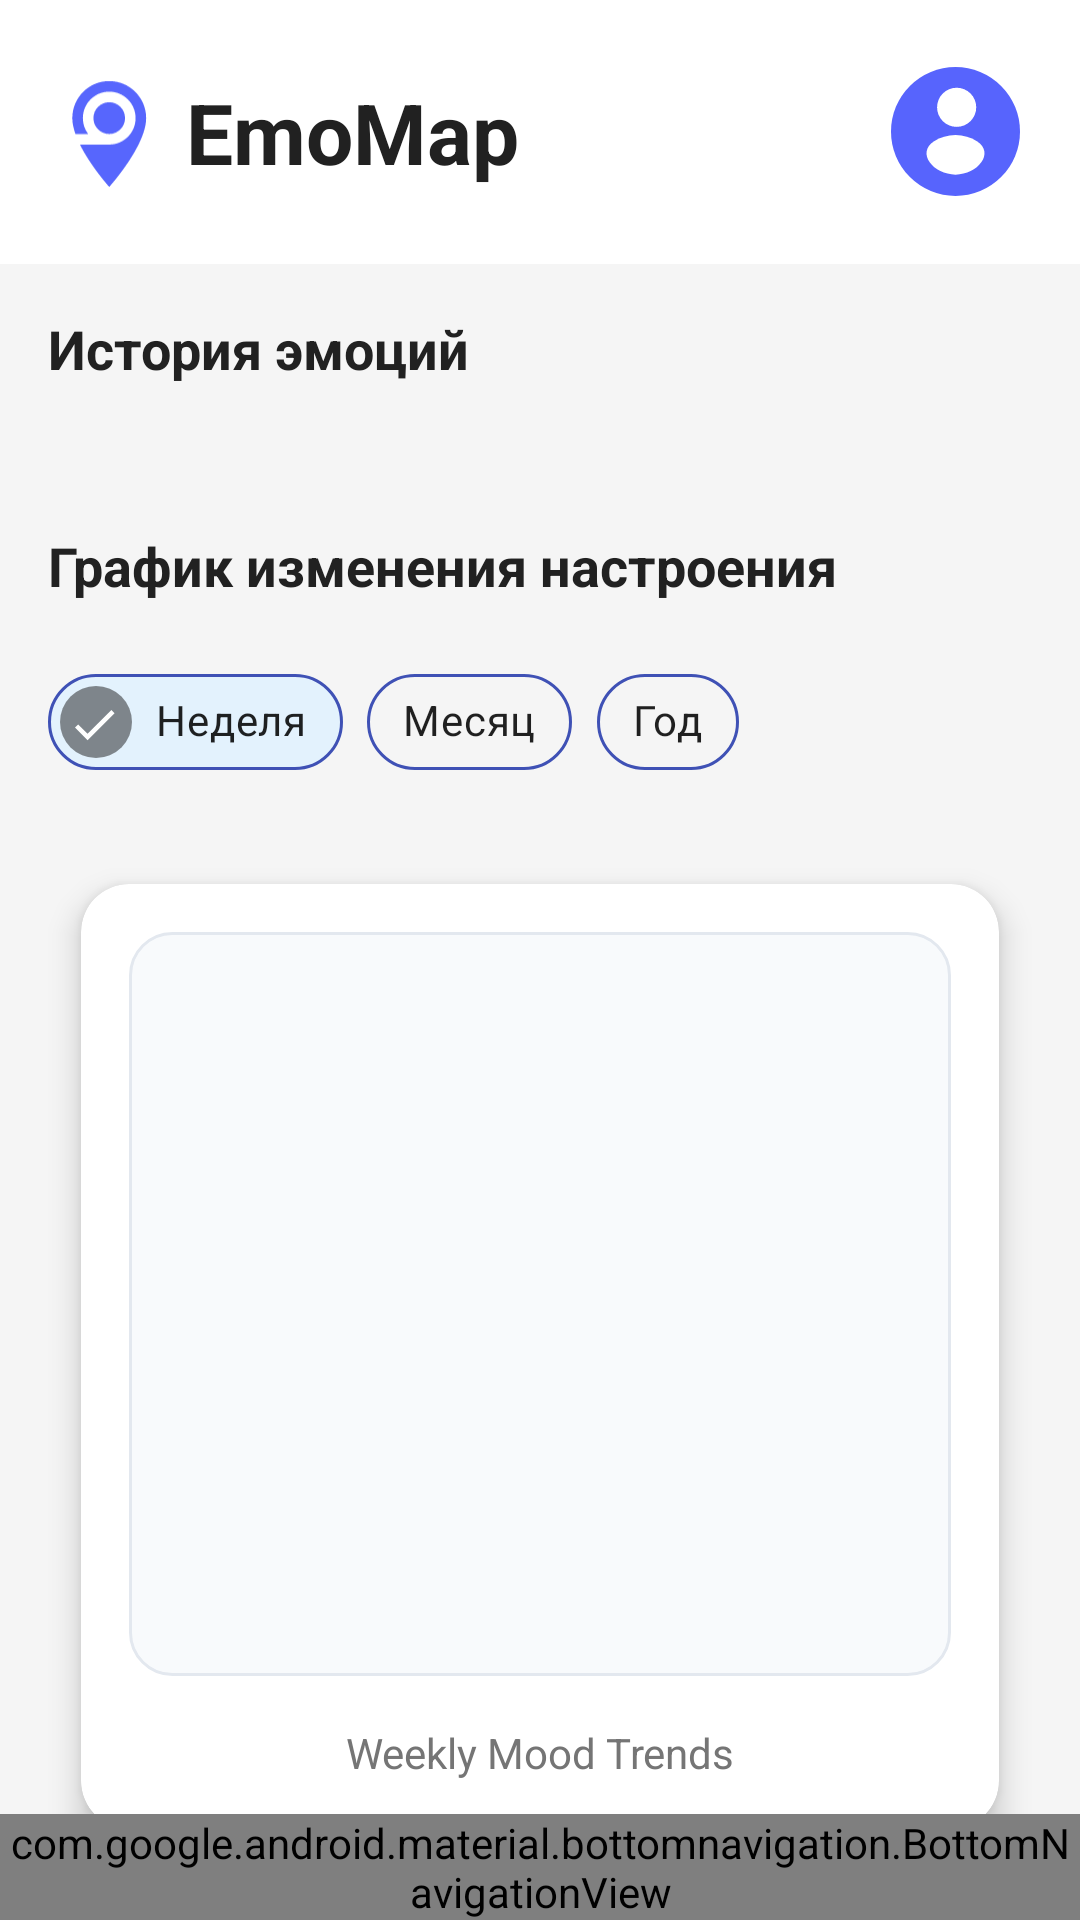

Icon bounding boxes for this 1080 × 1920 phone screenshot, format (x1, y1, x2, y2):
Профиль: (891, 67, 1020, 196)
